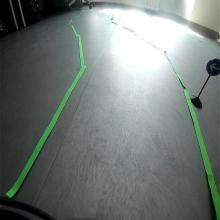left: (206, 59, 220, 76)
